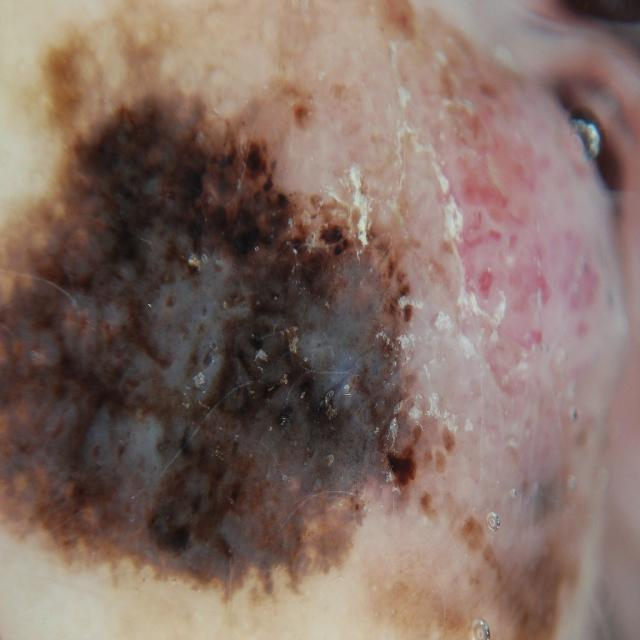Skin-Cancer Melanoma: (6, 6, 640, 640)
